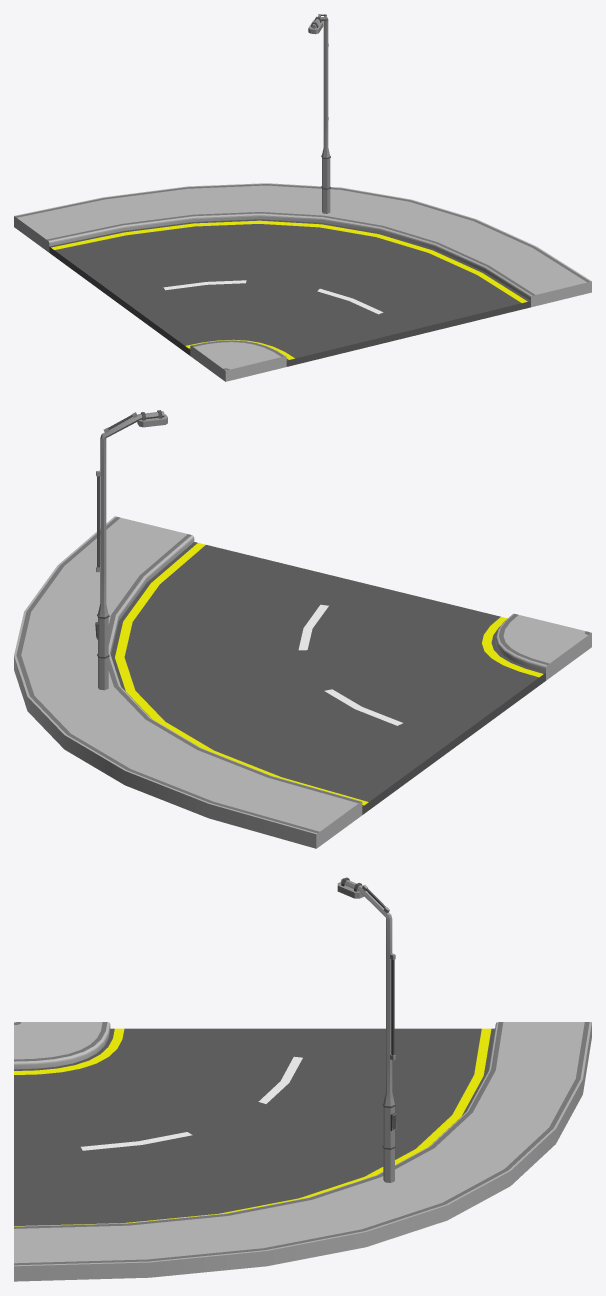
File: SM_Road_Turn_01.FBX
The picture shows the model from 3 angles, top to bottom: view 1: azimuth 30°, elevation 25°; view 2: azimuth 150°, elevation 25°; view 3: azimuth 270°, elevation 25°; orthographic projection. The views are drawn at different scales.
Visible parts, largest first — view 1: SM_Road_Turn_01; view 2: SM_Road_Turn_01; view 3: SM_Road_Turn_01.
Part boxes in pixels (x1,y1,x2,y2): SM_Road_Turn_01: (14,14,591,381); SM_Road_Turn_01: (14,410,591,848); SM_Road_Turn_01: (14,877,591,1281).
Size of the model in its own units: 6 by 3.44 by 6.
Materials: 1 (1 with a texture image).
